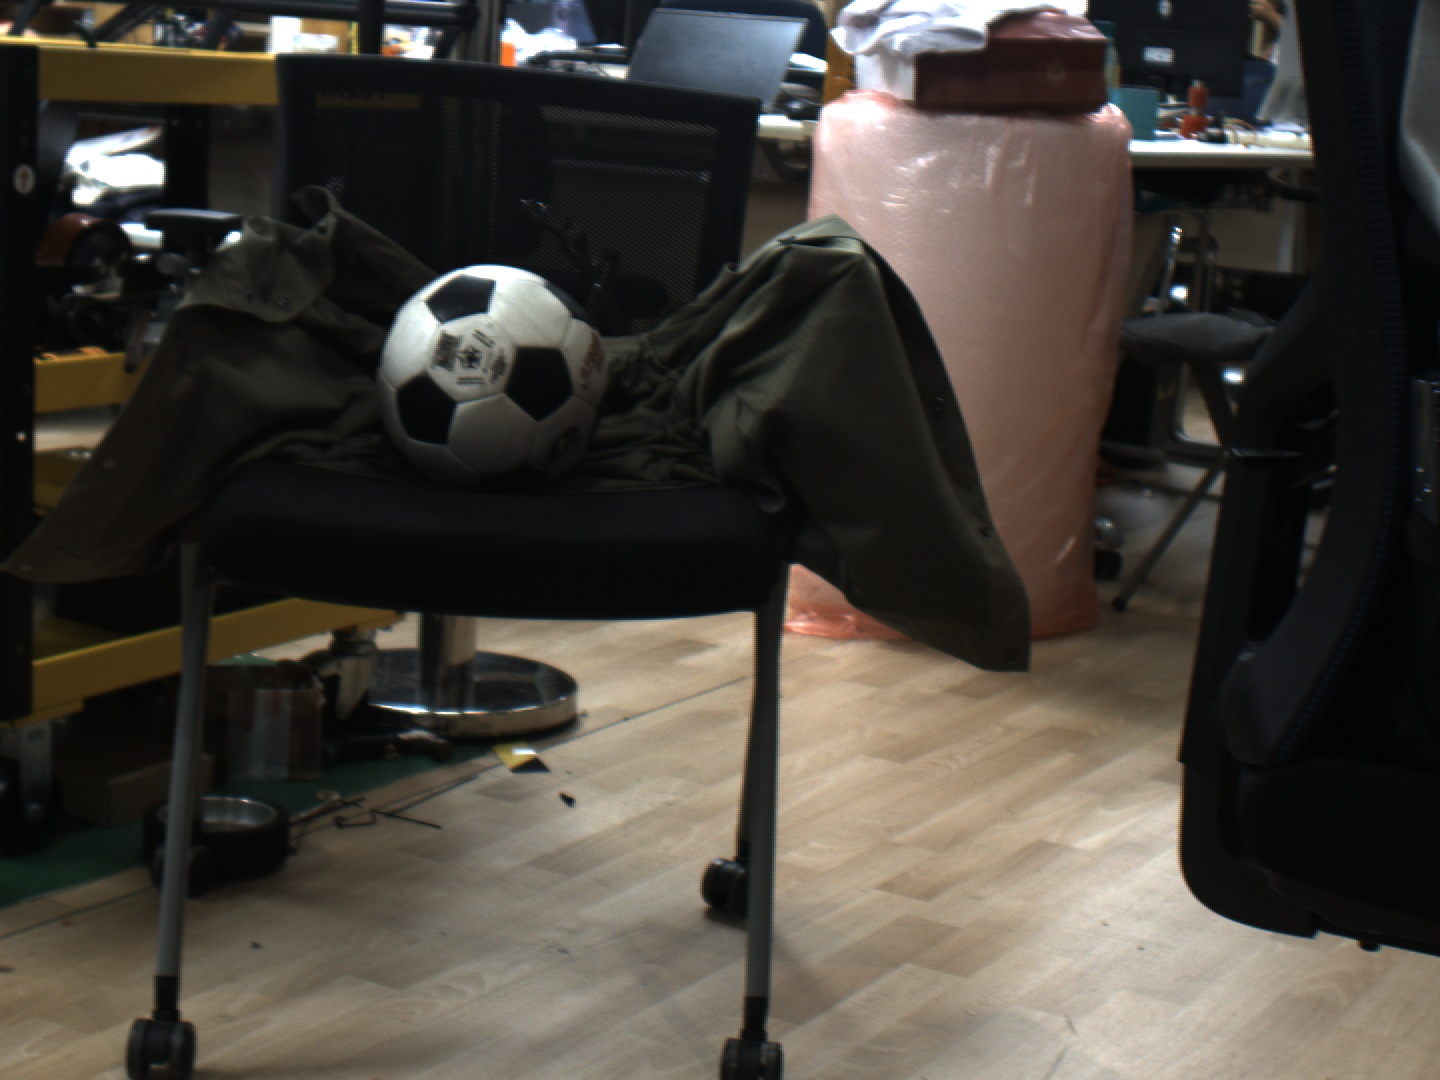ball: (375, 264, 605, 496)
